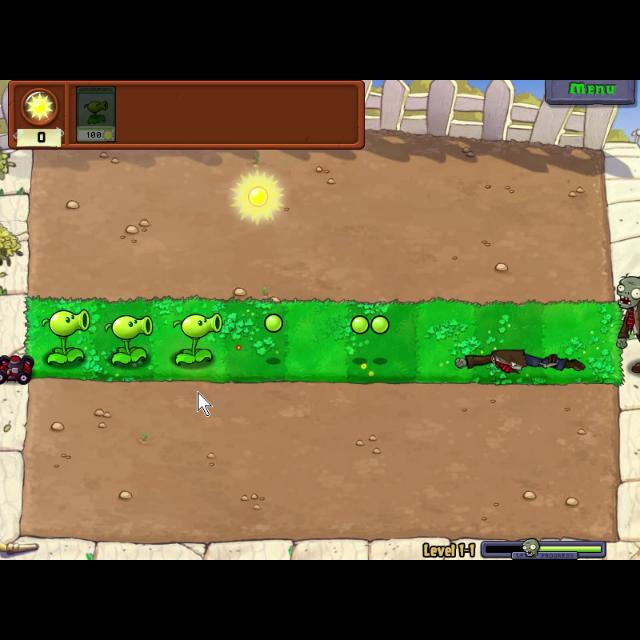Garden: (22, 293, 630, 393)
Menu Button: (542, 80, 638, 106)
Mower: (0, 352, 38, 388)
Peashooter: (73, 80, 117, 144)
Peashooter Seed: (36, 306, 92, 368), (168, 312, 224, 370), (100, 312, 156, 366)
Seed Panel: (6, 80, 370, 150)
Sun: (228, 168, 286, 225)
Zombie: (608, 272, 640, 376)
